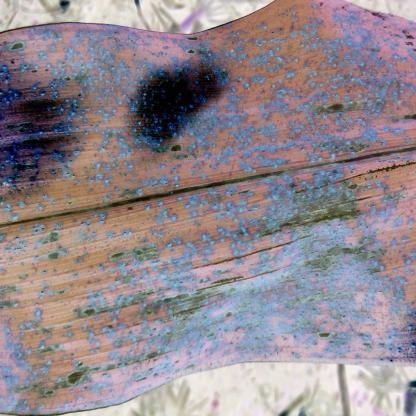Corn rust leaf: (3, 6, 416, 412)
